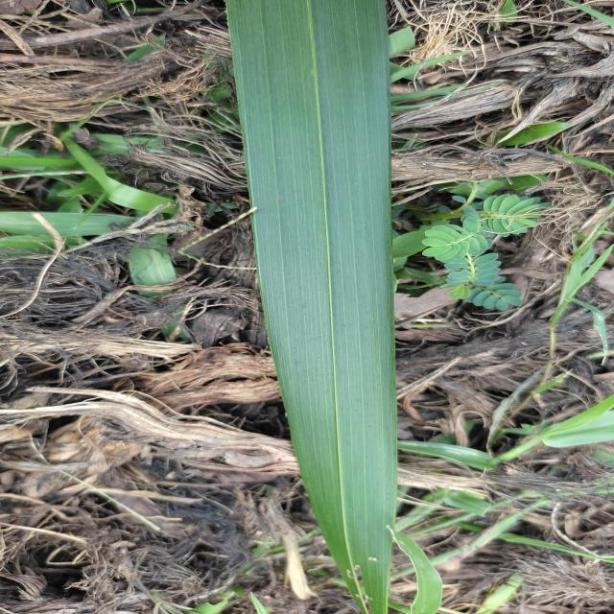Boron: (225, 0, 400, 614)
